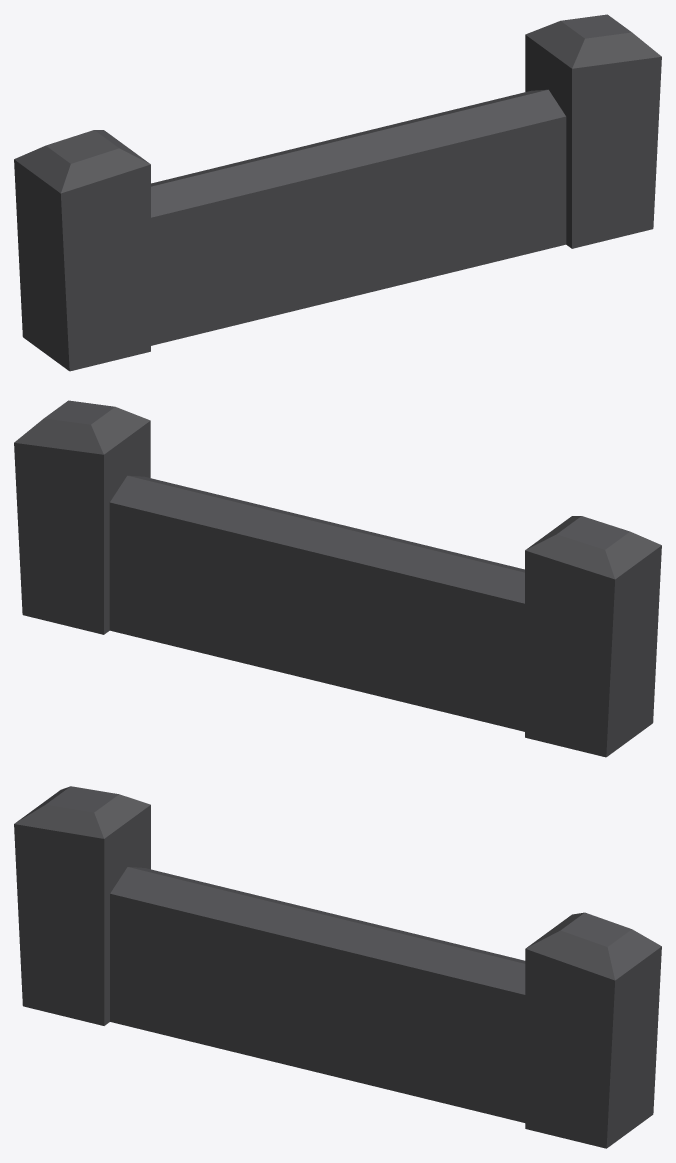
File: Wall_Tiny.fbx
3 views of the same model, one above another, from view 1: azimuth 30°, elevation 25°; view 2: azimuth 150°, elevation 25°; view 3: azimuth 330°, elevation 25° (orthographic).
Parts seen in each view (by area): view 1: SM_Bld_Adventure_Wall_01; view 2: SM_Bld_Adventure_Wall_01; view 3: SM_Bld_Adventure_Wall_01.
Part boxes in pixels (x1,y1,x2,y2): SM_Bld_Adventure_Wall_01: (14, 14, 661, 371); SM_Bld_Adventure_Wall_01: (14, 400, 661, 757); SM_Bld_Adventure_Wall_01: (14, 786, 661, 1148).
Size of the model in its own units: 122 by 38.98 by 16.49.
